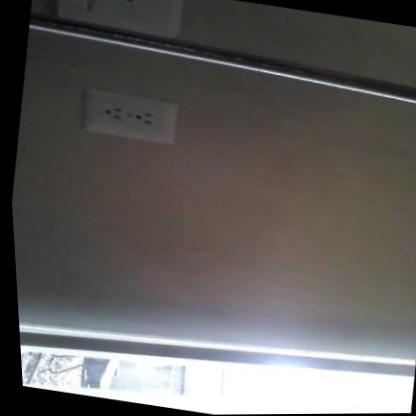OUTLET: (79, 88, 179, 144)
